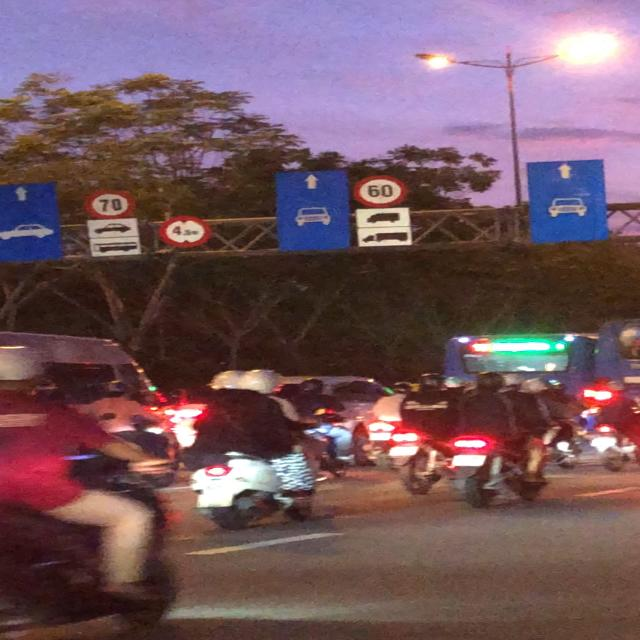Bien bao han che chieu cao: (156, 214, 213, 252)
Bien bao toc do toi da cho phep: (347, 173, 414, 208), (78, 188, 142, 220)
